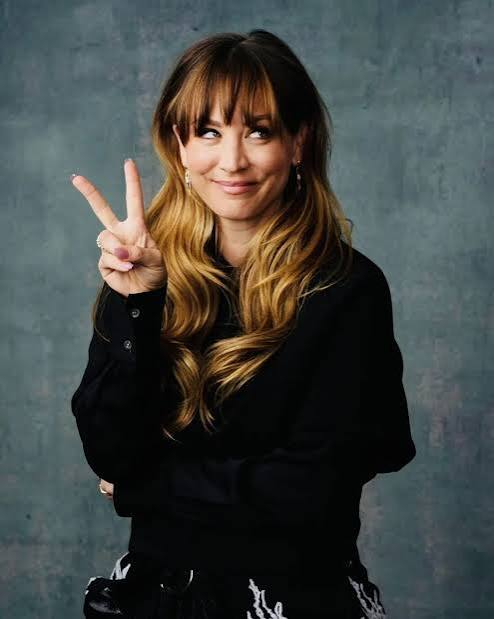peace_sign: (64, 154, 173, 291)
